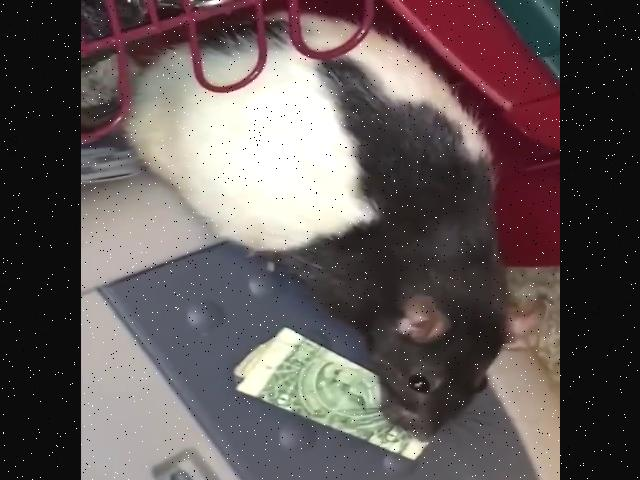Tikus: (119, 10, 549, 444)
